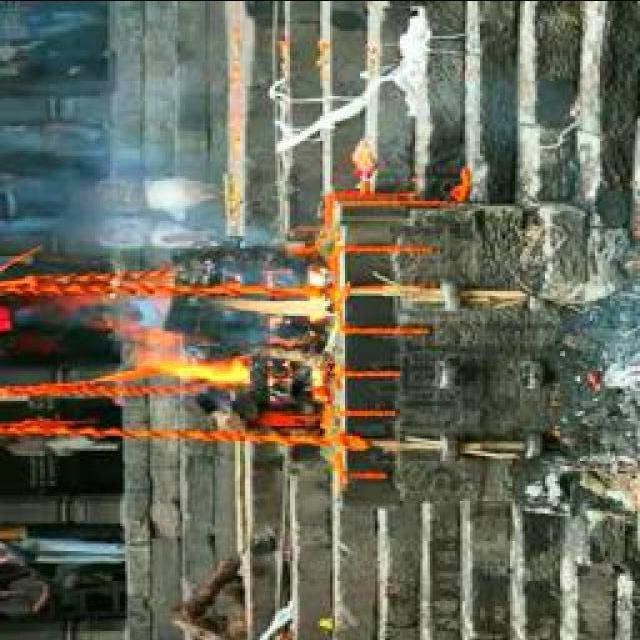Fire: (90, 274, 333, 394)
